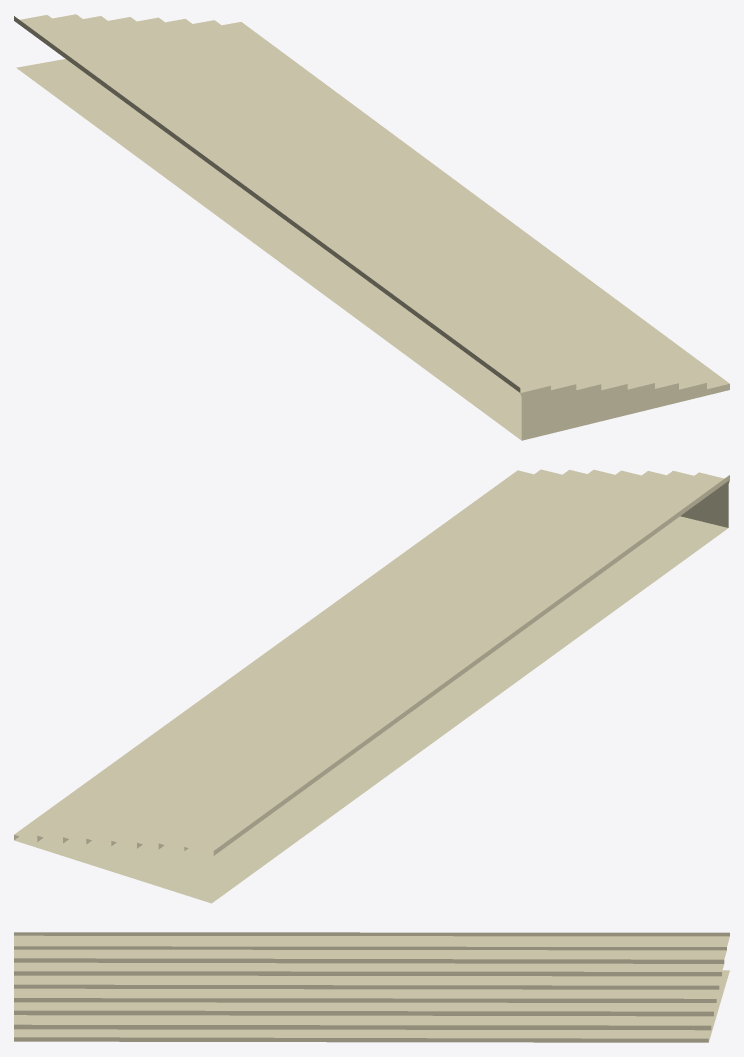
Rendered from Stairs_Large.fbx.
The picture shows the model from 3 angles, top to bottom: view 1: azimuth 30°, elevation 25°; view 2: azimuth 150°, elevation 25°; view 3: azimuth 270°, elevation 25°; orthographic projection. The views are drawn at different scales.
Parts seen in each view (by area): view 1: StairsLarge; view 2: StairsLarge; view 3: StairsLarge.
Boxes of the visible parts, x1,y1,x2,y2 form: StairsLarge: (14,14,729,440); StairsLarge: (14,469,729,903); StairsLarge: (14,932,729,1042).
Bounding box in the file's own units: 272 × 64.48 × 1120.
